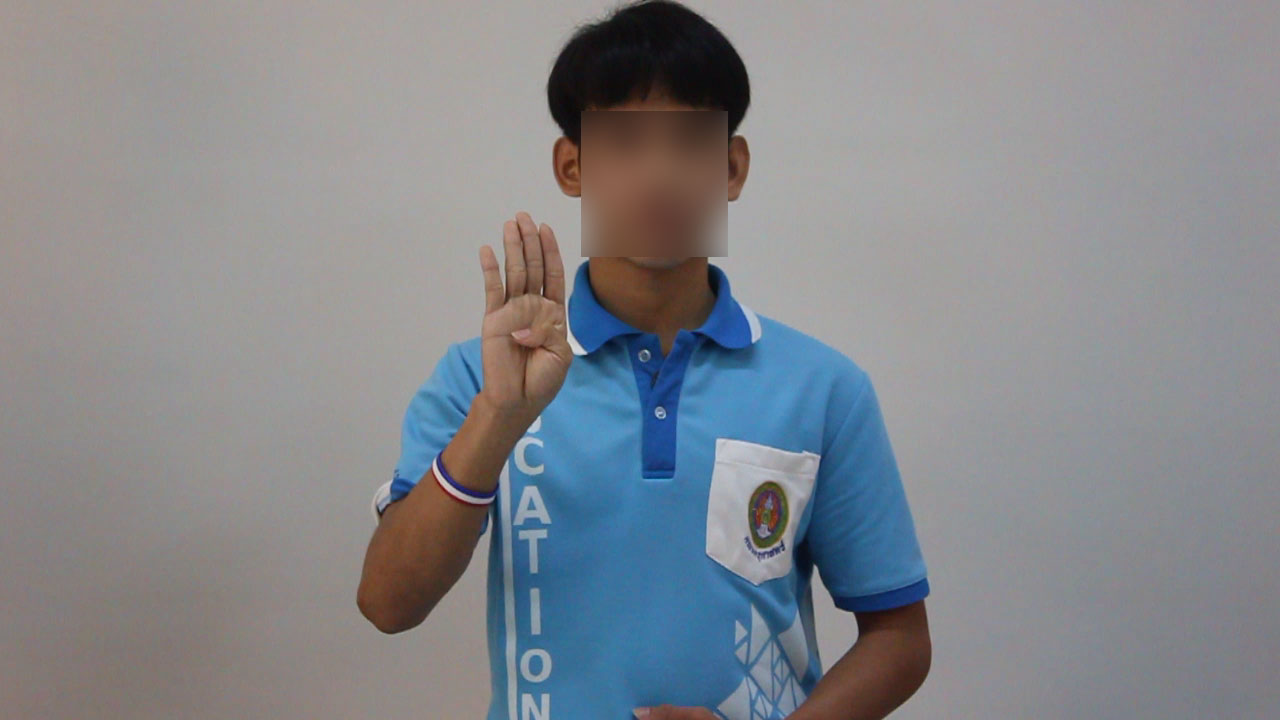bor: (459, 194, 588, 427)
